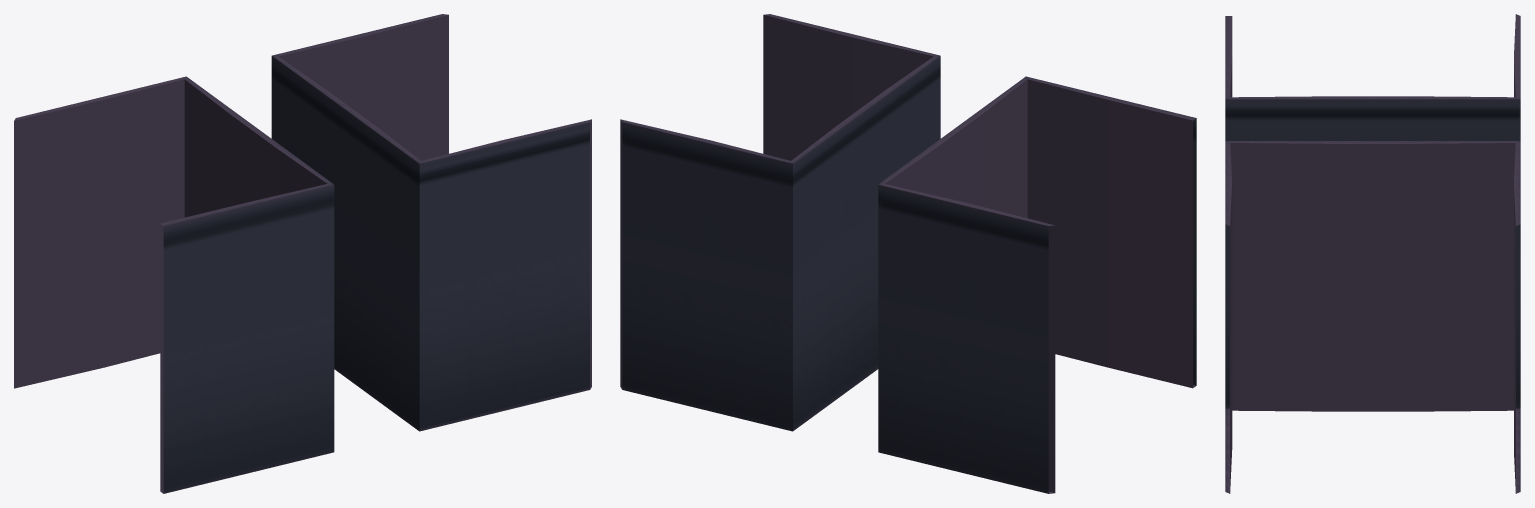
Rendered from WC Walls 2.fbx.
3 views of the same model, side by side, from view 1: azimuth 30°, elevation 25°; view 2: azimuth 150°, elevation 25°; view 3: azimuth 270°, elevation 25° (orthographic).
Parts seen in each view (by area): view 1: WC Walls 2; view 2: WC Walls 2; view 3: WC Walls 2.
Part boxes in pixels (x1,y1,x2,y2): WC Walls 2: [14, 14, 591, 493]; WC Walls 2: [620, 14, 1196, 493]; WC Walls 2: [1225, 14, 1520, 493].
Bounding box in the file's own units: 510 × 300 × 300.
1 material, 1 textured.
